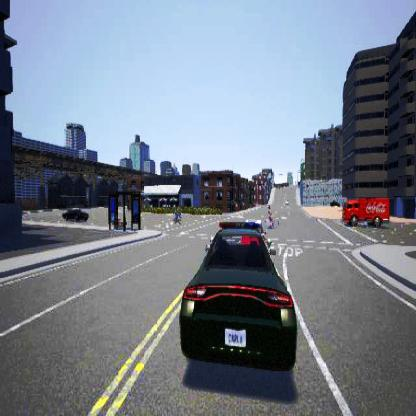bike: (264, 204, 279, 228), (171, 208, 183, 222)
vehicle: (179, 218, 296, 370), (341, 197, 389, 227), (62, 208, 88, 221)
